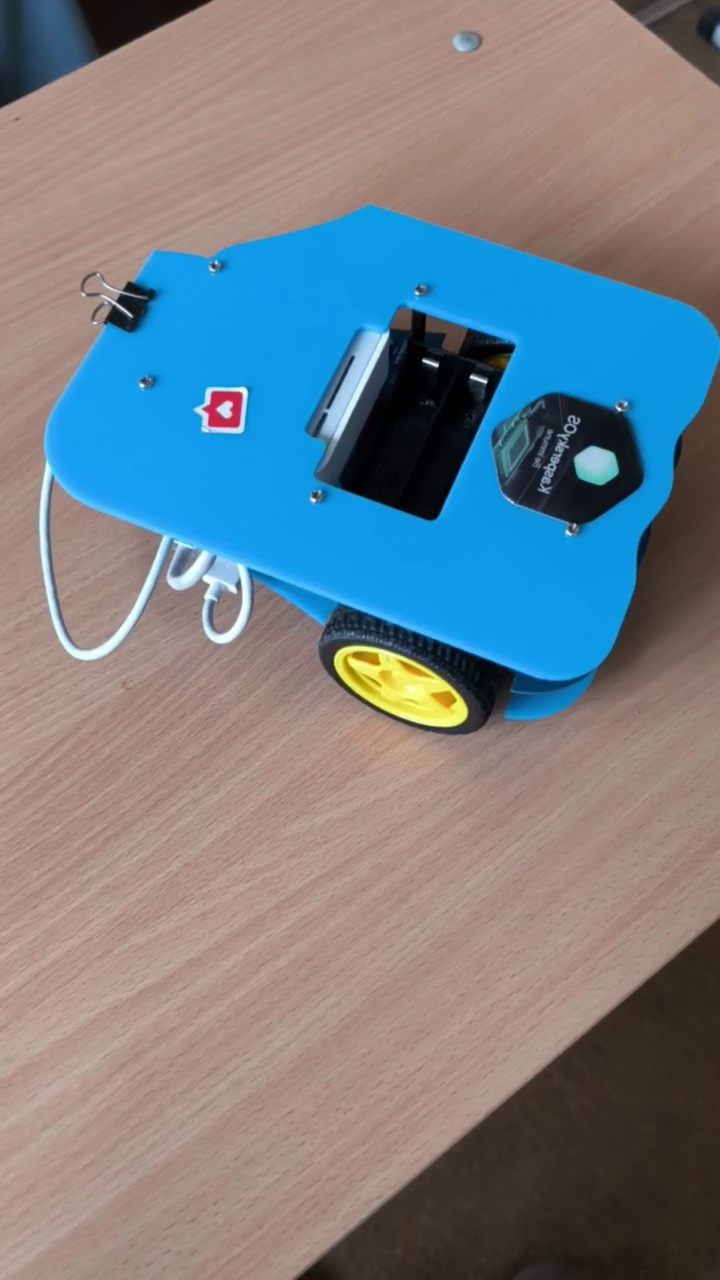robot: (33, 196, 720, 738)
